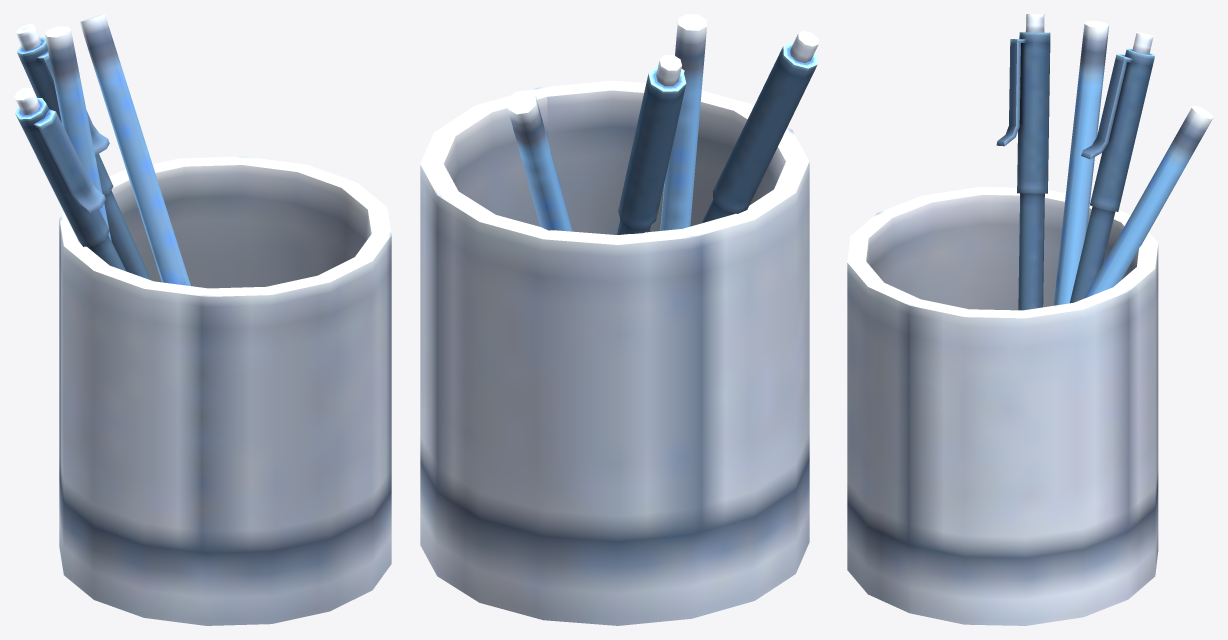
File: obj_pencil.gltf
The picture shows the model from 3 angles, left to right: view 1: azimuth 30°, elevation 25°; view 2: azimuth 150°, elevation 25°; view 3: azimuth 270°, elevation 25°; orthographic projection. The views are drawn at different scales.
Parts seen in each view (by area): view 1: obj_pencil; view 2: obj_pencil; view 3: obj_pencil.
Boxes of the visible parts, <box> form: obj_pencil: <box>14,14,391,625</box>; obj_pencil: <box>420,14,818,625</box>; obj_pencil: <box>847,14,1213,625</box>.
Size of what is drawn, in the model's own units: 0.2117 by 0.3113 by 0.2136.
Materials: 1 (1 with a texture image).
